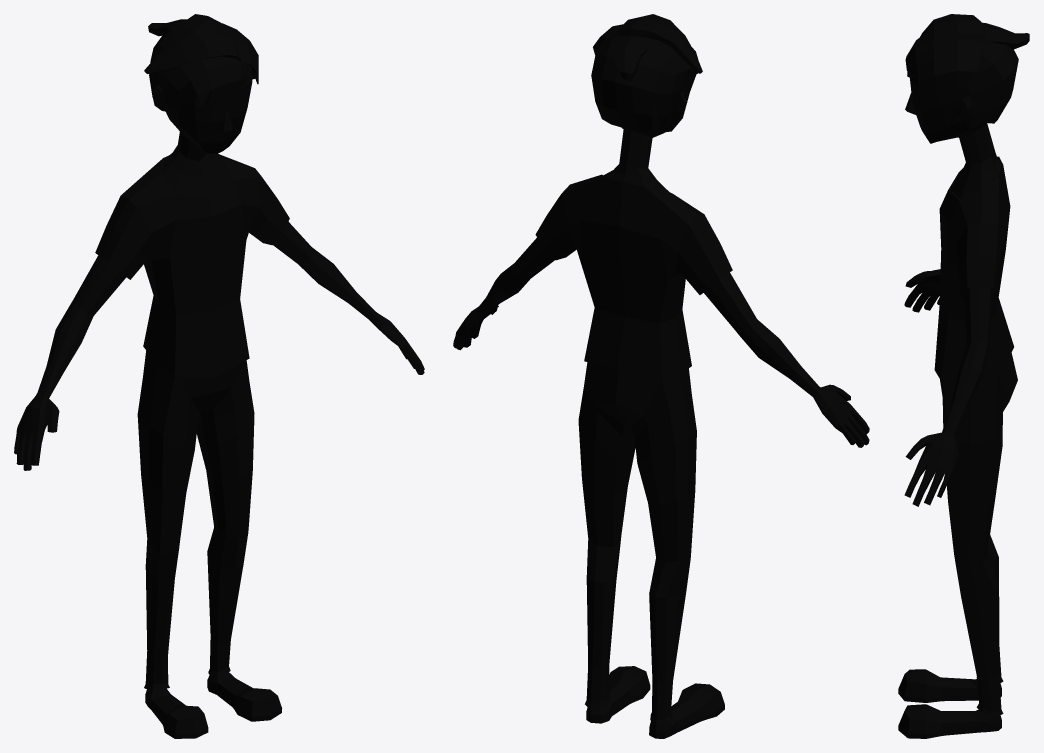
The model's file is Zonbiliam.FBX.
3 views of the same model, side by side, from view 1: azimuth 30°, elevation 25°; view 2: azimuth 150°, elevation 25°; view 3: azimuth 270°, elevation 25° (orthographic).
Parts seen in each view (by area): view 1: LiamMesh; view 2: LiamMesh; view 3: LiamMesh.
Boxes of the visible parts, bbox=[...] form: LiamMesh: bbox=[14, 14, 424, 738]; LiamMesh: bbox=[453, 14, 869, 738]; LiamMesh: bbox=[898, 14, 1029, 738].
Bounding box in the file's own units: 4.88 × 1.37 × 7.97.
Materials: 1 (1 with a texture image).
